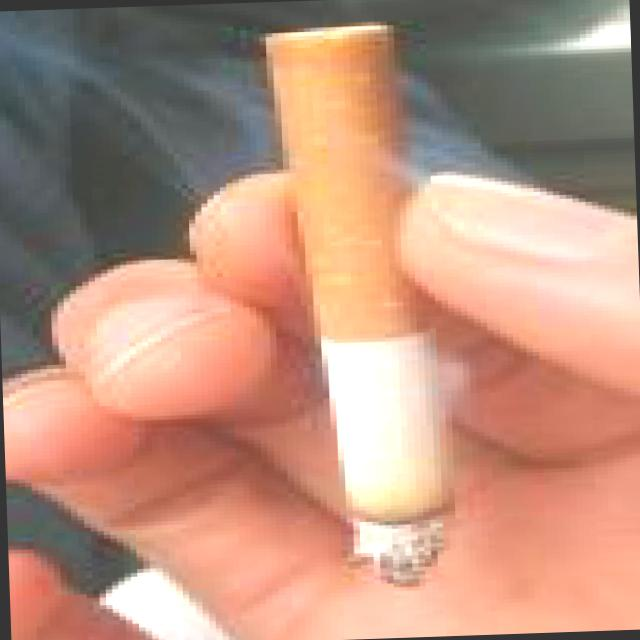cigarette: (250, 13, 473, 588)
